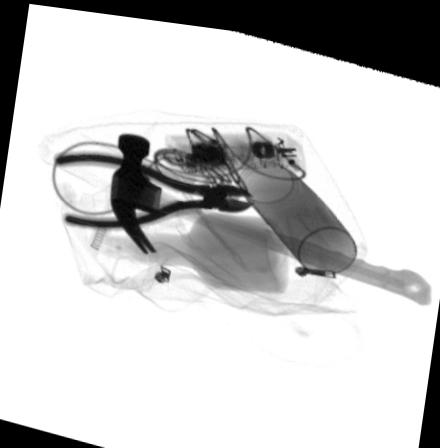Hammer: (110, 129, 433, 295)
Pliers: (54, 148, 254, 231)
